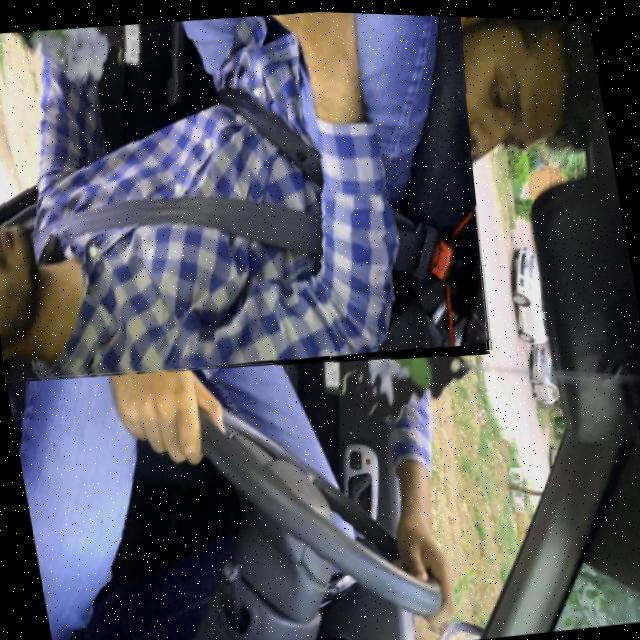seatbelt: (0, 0, 495, 396)
